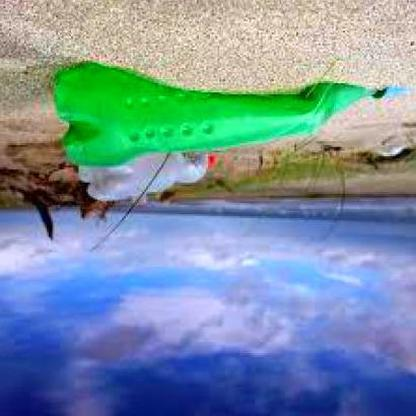plastic bottle: (52, 60, 389, 166), (78, 155, 216, 199)
